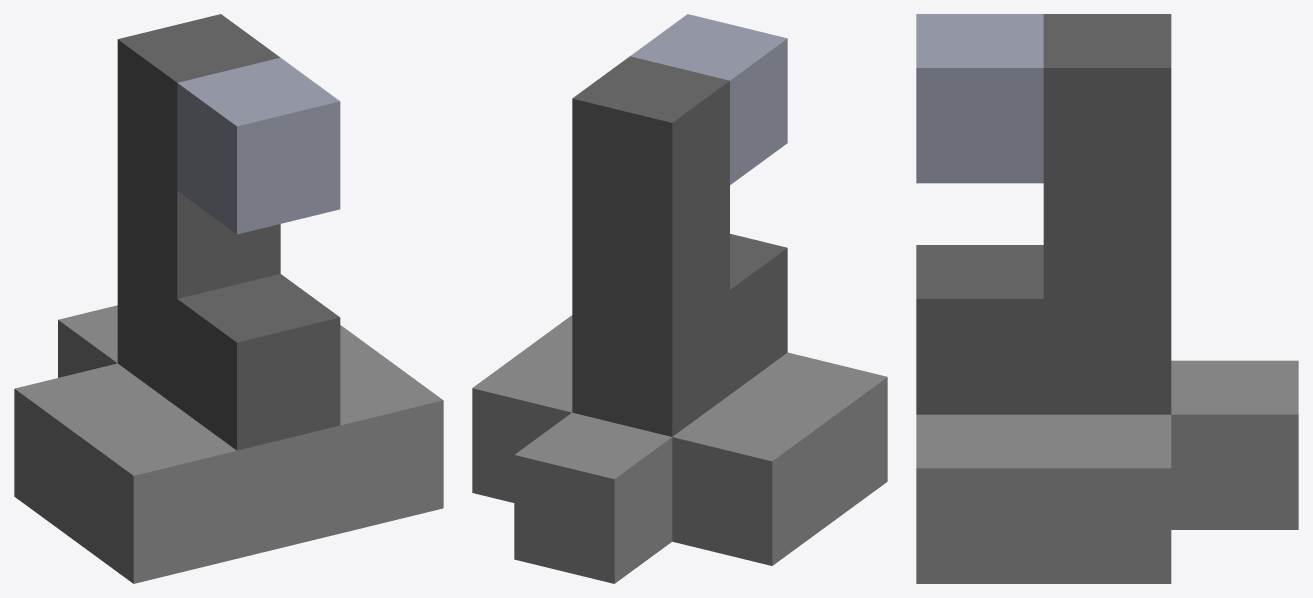
File: Medieval Assets-262-Decoration - Barrel - Highlight - Tap.obj
3 views of the same model, side by side, from view 1: azimuth 30°, elevation 25°; view 2: azimuth 150°, elevation 25°; view 3: azimuth 270°, elevation 25° (orthographic). The views are drawn at different scales.
Parts seen in each view (by area): view 1: Decoration - Barrel - Highlight - Tap; view 2: Decoration - Barrel - Highlight - Tap; view 3: Decoration - Barrel - Highlight - Tap.
Boxes of the visible parts, x1,y1,x2,y2 form: Decoration - Barrel - Highlight - Tap: (14,14,443,583); Decoration - Barrel - Highlight - Tap: (472,14,887,583); Decoration - Barrel - Highlight - Tap: (916,14,1298,583).
Size of the model in its own units: 0.3 by 0.4 by 0.3.
1 material, 1 textured.
